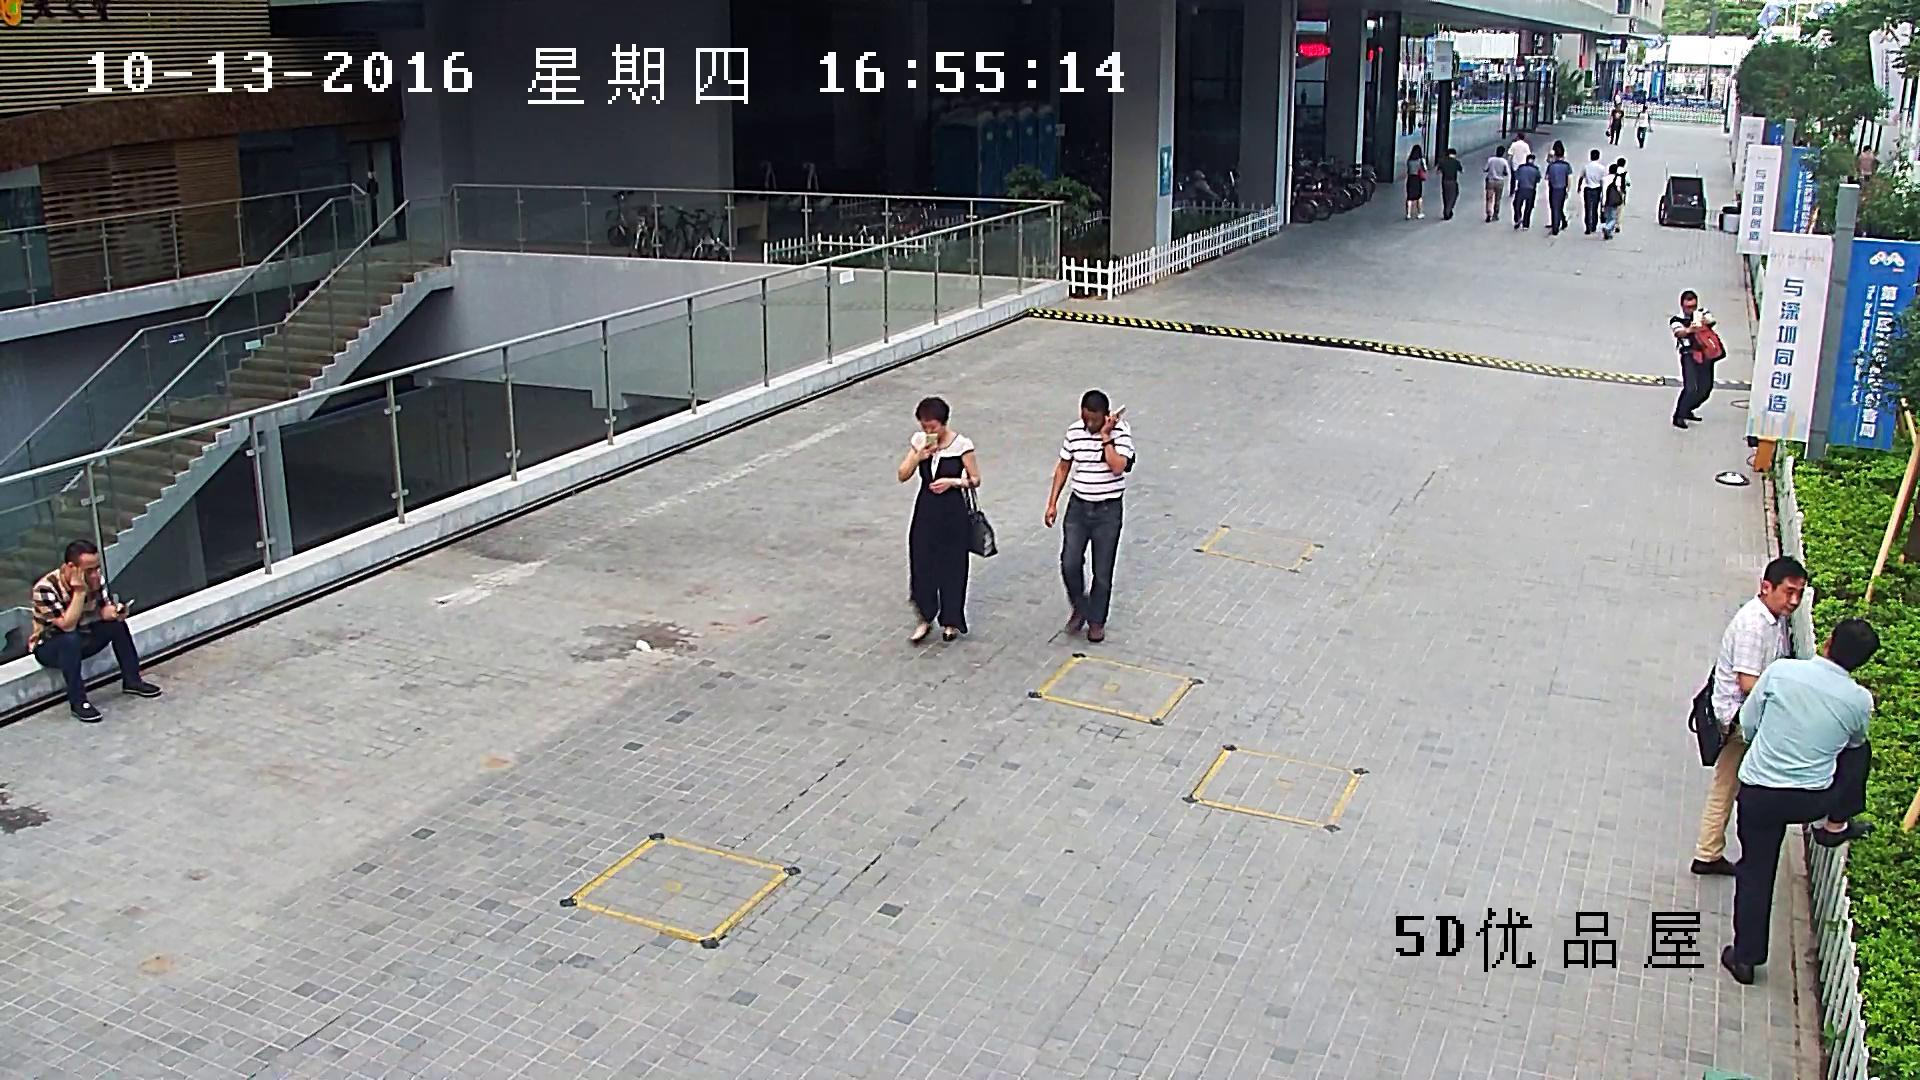person: (1719, 617, 1880, 987), (1688, 555, 1808, 877), (897, 396, 999, 643), (26, 538, 163, 722), (1044, 389, 1137, 643), (1668, 288, 1726, 430), (1577, 149, 1606, 235), (1511, 153, 1541, 230), (1547, 144, 1572, 236), (1481, 144, 1508, 223), (1436, 147, 1464, 221), (1405, 143, 1427, 221), (1507, 131, 1532, 196), (1602, 163, 1622, 240), (1613, 157, 1630, 233), (1604, 102, 1624, 146), (1634, 105, 1654, 149), (1857, 144, 1875, 183)
